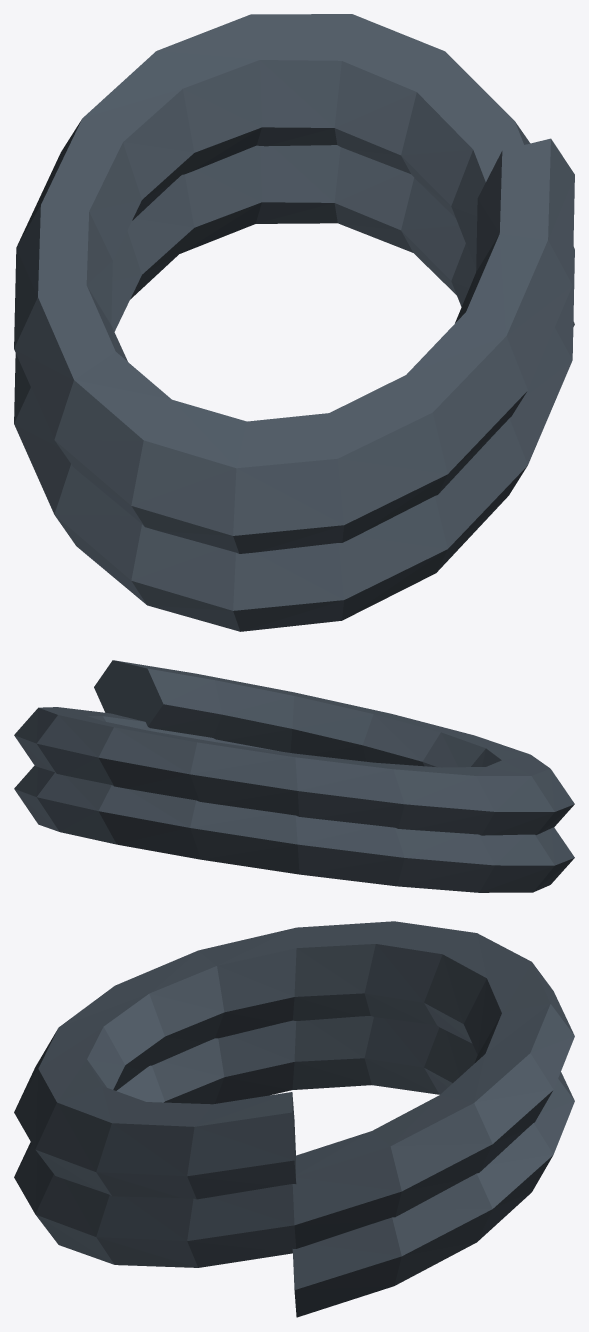
File: Spring_Coil.gltf
3 renders of one model, top to bottom at view 1: azimuth 30°, elevation 25°; view 2: azimuth 150°, elevation 25°; view 3: azimuth 270°, elevation 25°, orthographic. The views are drawn at different scales.
Visible parts, largest first — view 1: Spring_Coil_baked; view 2: Spring_Coil_baked; view 3: Spring_Coil_baked.
Boxes of the visible parts, x1,y1,x2,y2 form: Spring_Coil_baked: [14, 14, 574, 631]; Spring_Coil_baked: [14, 660, 574, 892]; Spring_Coil_baked: [14, 921, 574, 1317].
Size of the model in its own units: 0.5212 by 0.2803 by 0.484.
